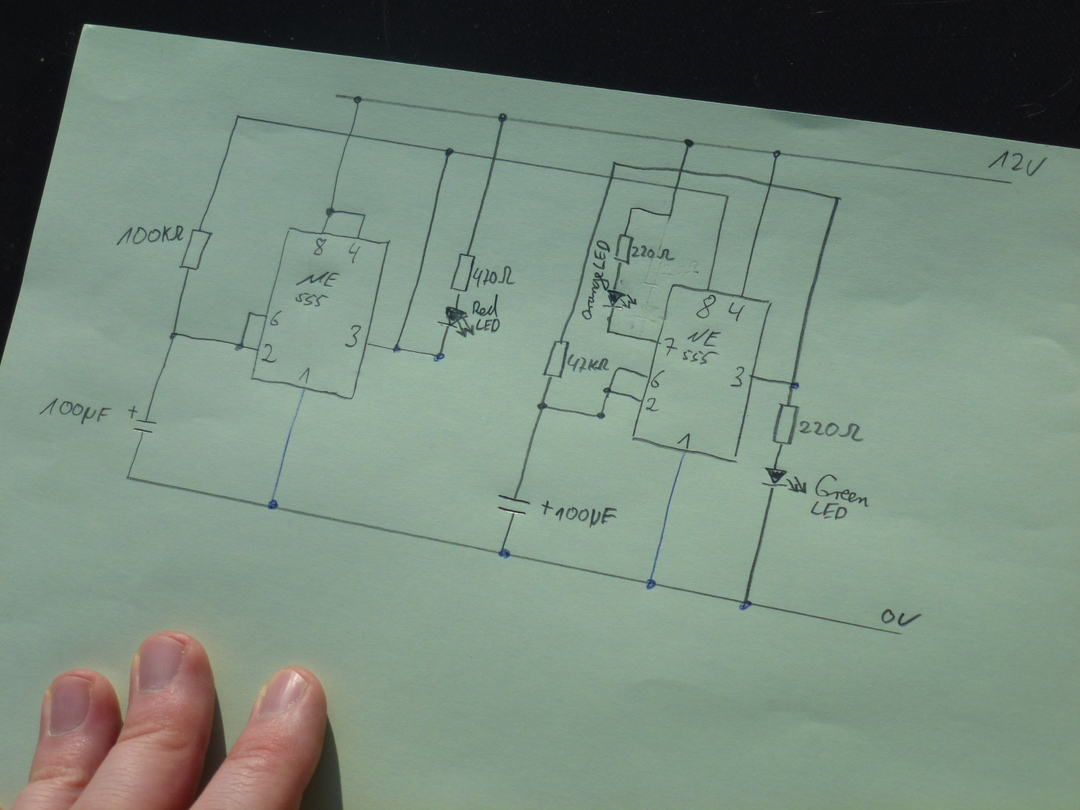capacitor.polarized: (497, 493, 554, 521), (128, 405, 158, 435)
crossover: (676, 165, 686, 176), (671, 183, 682, 193), (489, 154, 500, 164), (345, 130, 355, 140), (766, 179, 775, 189), (607, 173, 616, 182)
diode.light_emitting: (760, 466, 808, 496), (436, 305, 476, 338), (602, 289, 637, 311)
integrated_cricuit.ne555: (632, 284, 772, 463), (250, 227, 390, 399)
junction: (738, 599, 753, 613), (496, 547, 511, 560), (535, 400, 550, 413), (266, 499, 280, 512), (432, 351, 446, 364), (787, 379, 801, 392), (644, 578, 657, 591), (391, 342, 403, 355), (496, 112, 509, 124), (682, 137, 696, 148), (830, 194, 844, 205), (443, 146, 455, 158), (771, 148, 783, 160), (324, 206, 336, 218), (595, 409, 607, 421), (351, 94, 363, 105), (602, 385, 614, 396), (234, 341, 245, 352), (168, 331, 179, 341), (722, 192, 733, 202), (233, 112, 243, 122), (609, 159, 620, 168), (665, 209, 674, 219), (626, 204, 636, 213), (124, 472, 132, 483), (360, 211, 369, 220), (614, 364, 623, 373), (246, 309, 254, 318), (604, 328, 612, 336)
resistor: (178, 229, 213, 271), (448, 252, 477, 296), (772, 402, 800, 447), (541, 339, 570, 380), (612, 232, 635, 267)
terminal: (893, 629, 905, 639), (1005, 178, 1015, 188)
text: (810, 473, 870, 519), (581, 240, 610, 320), (39, 397, 112, 425), (294, 270, 340, 308), (987, 150, 1050, 177), (798, 420, 865, 443), (116, 225, 185, 247), (555, 505, 618, 529), (682, 328, 721, 366), (472, 293, 501, 334), (472, 265, 515, 288), (567, 353, 610, 373), (880, 608, 922, 627), (631, 244, 676, 261), (695, 294, 717, 319), (344, 324, 362, 348), (727, 302, 745, 322), (312, 236, 328, 257), (261, 343, 277, 364), (730, 366, 745, 388), (663, 337, 678, 357), (650, 369, 665, 389), (676, 432, 692, 450), (348, 242, 361, 264), (298, 366, 311, 385), (269, 310, 282, 327), (645, 397, 659, 412)
